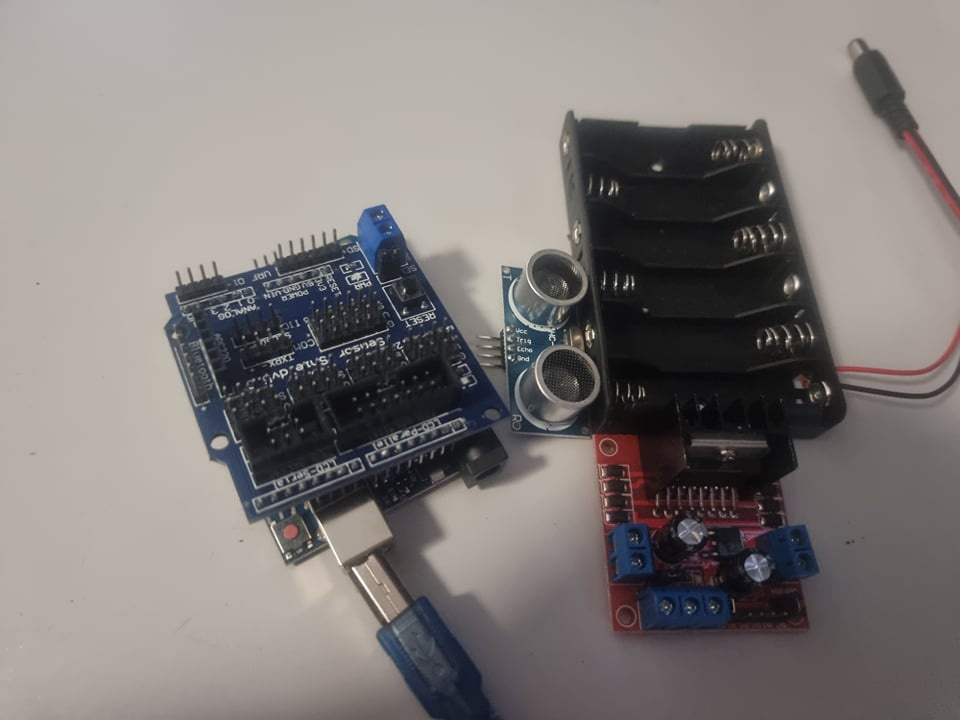5V EXPANSION: (166, 202, 507, 509)
BATTERY BOX: (558, 103, 847, 442)
MOTOR: (604, 392, 826, 636)
SENSOR: (502, 244, 598, 437)
UNO R3: (263, 463, 512, 588)
